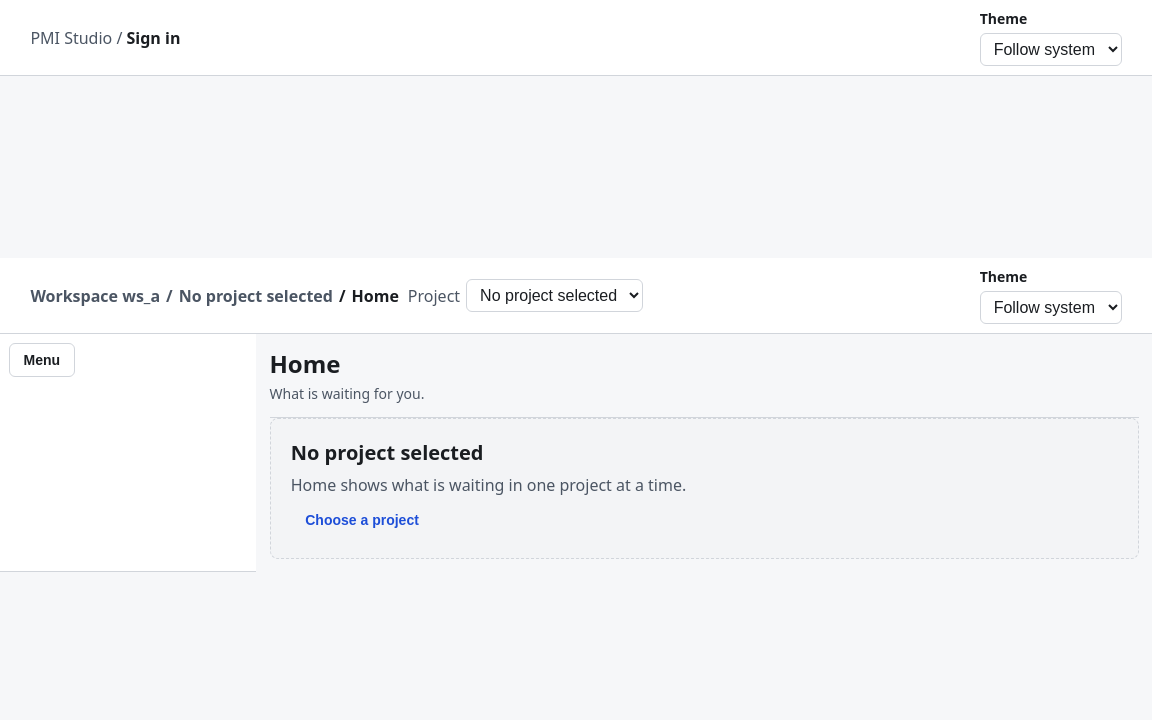
it: T440a · the drawer at a narrow width › carries the FULL grouped list when opened
(page scrolled)
What coordinates should you click on to do the following:
click the button "Menu"
I would click on:
 (42, 360)
Its box is x1=9 y1=343 x2=75 y2=377.
(page scrolled)
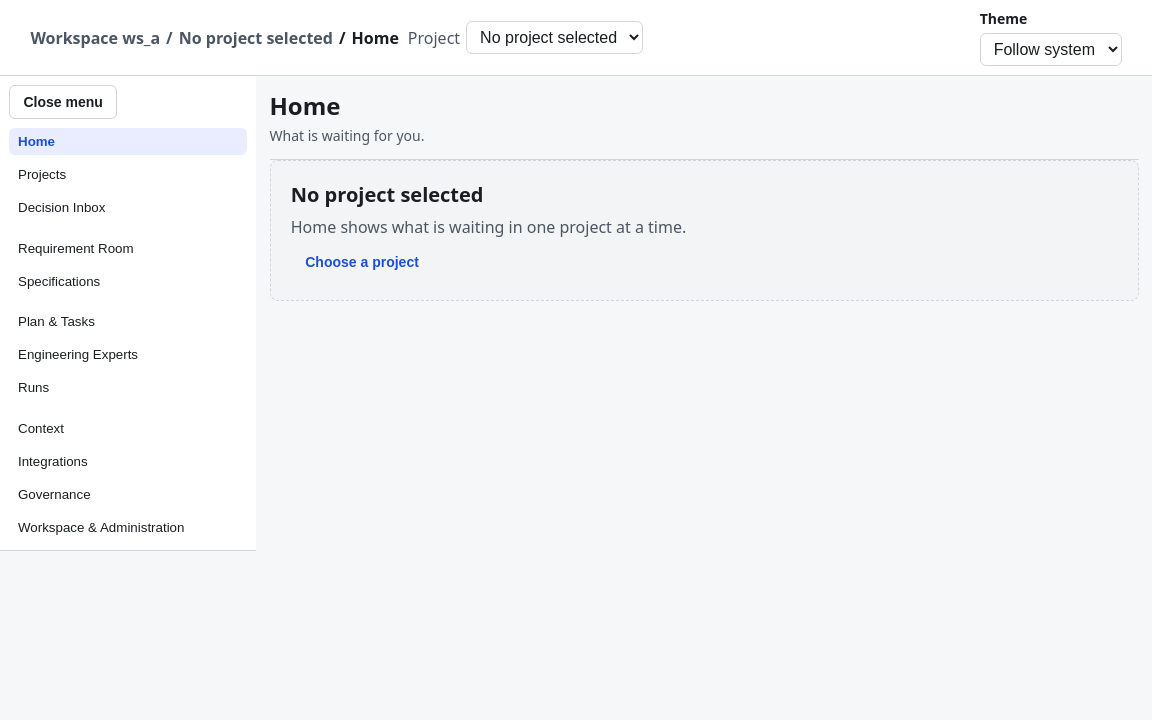
Check: the navigation bar named "Overview" is shown, box x1=9 y1=128 x2=247 y2=221
Check: the navigation bar named "Intent & Control" is shown, box x1=9 y1=234 x2=247 y2=294
Check: the navigation bar named "Delivery" is shown, box x1=9 y1=308 x2=247 y2=401
